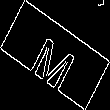M_NE: (28, 22, 82, 88)
